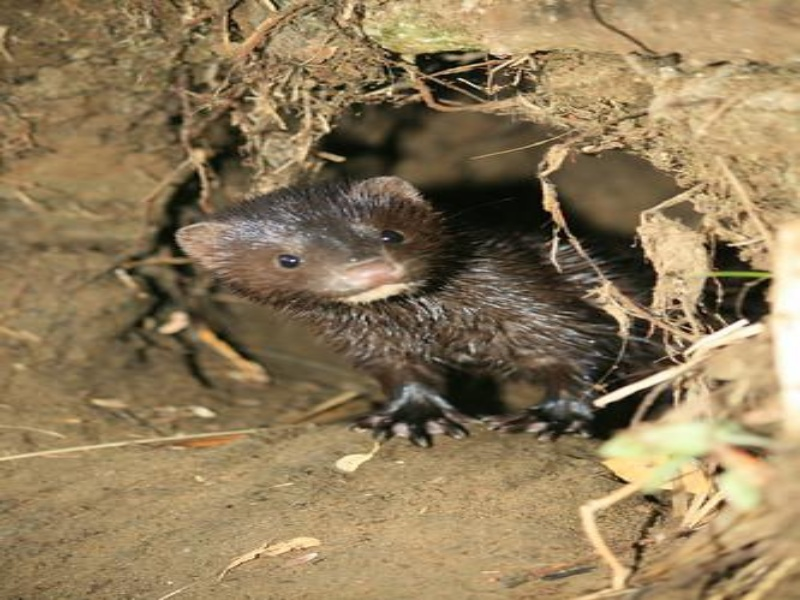minkish: (168, 171, 714, 447)
